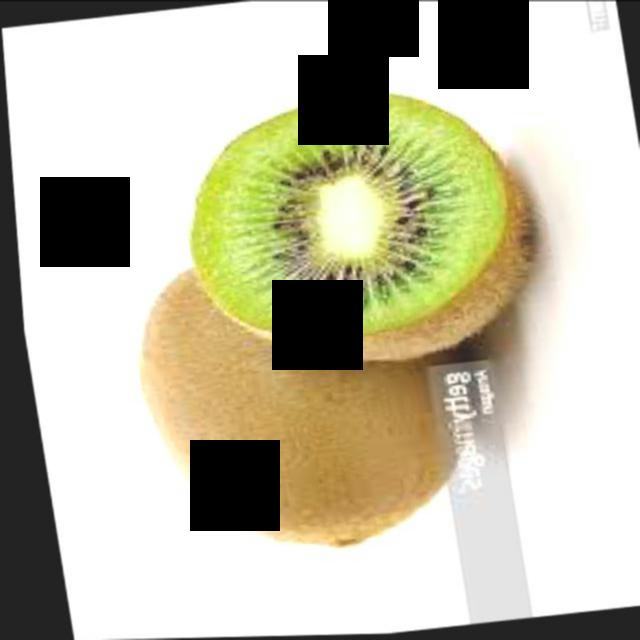kiwi: (110, 229, 479, 563)
